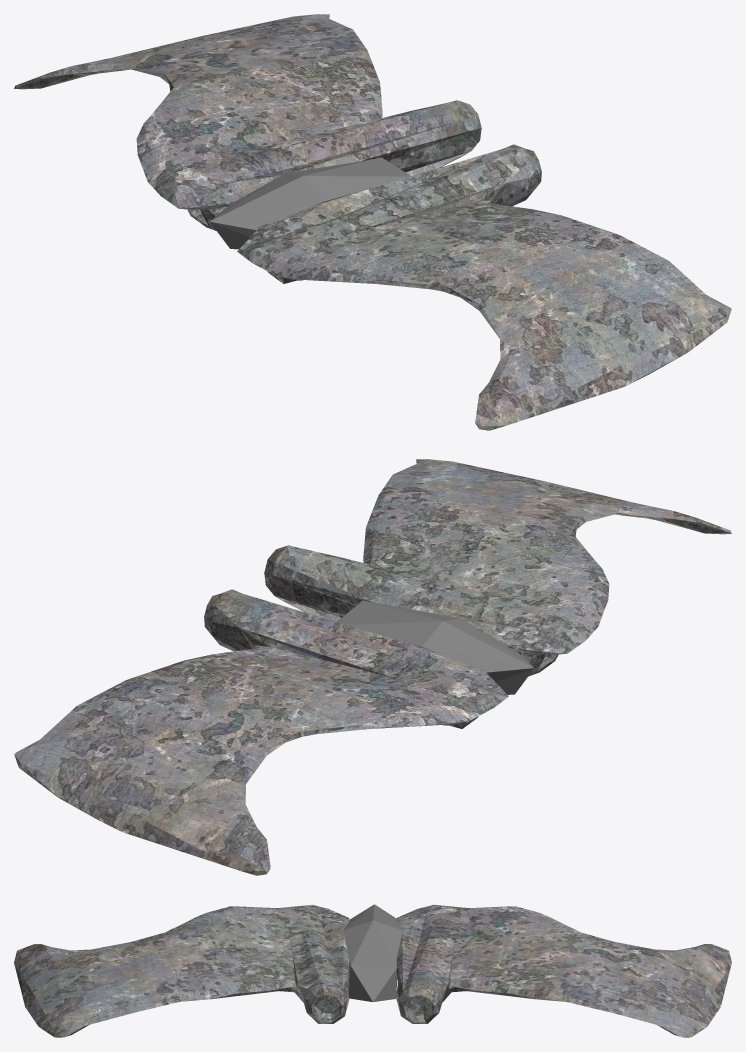
File: ship_med.obj
3 renders of one model, top to bottom at view 1: azimuth 30°, elevation 25°; view 2: azimuth 150°, elevation 25°; view 3: azimuth 270°, elevation 25°, orthographic. The views are drawn at different scales.
Parts seen in each view (by area): view 1: Mesh.002_Cube.002, Mesh_Cube.001; view 2: Mesh.002_Cube.002, Mesh_Cube.001; view 3: Mesh.002_Cube.002, Mesh_Cube.001.
Part boxes in pixels (x1,y1,x2,y2): Mesh.002_Cube.002: (14,14,731,430); Mesh_Cube.001: (209,157,410,249); Mesh.002_Cube.002: (14,459,731,875); Mesh_Cube.001: (337,600,533,694); Mesh.002_Cube.002: (14,904,731,1037); Mesh_Cube.001: (343,904,402,1001).
Bounding box in the file's own units: 5.26 × 1.22 × 13.15.
